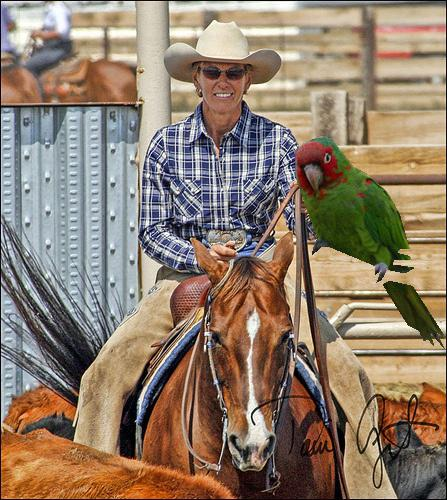tampered: (296, 137, 446, 350)
